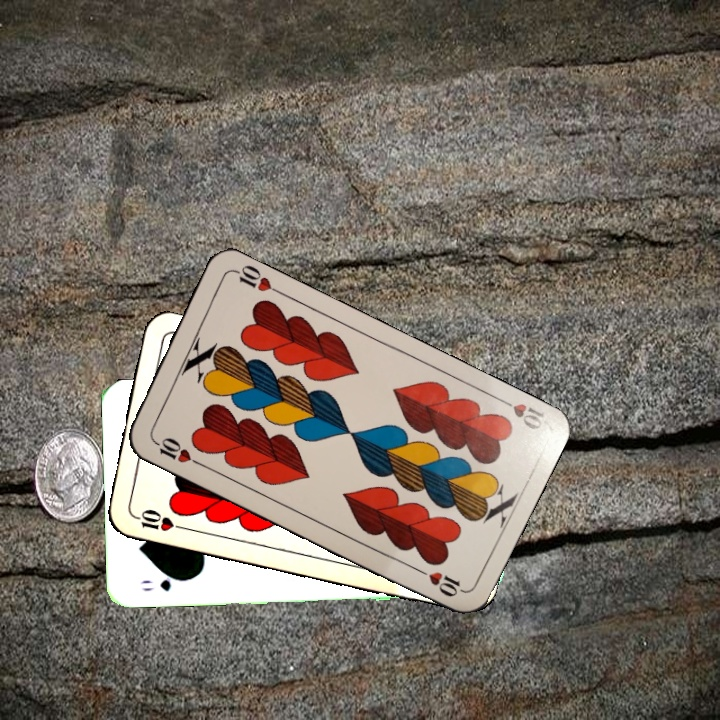GO: (136, 571, 190, 594)
H10: (492, 393, 547, 436), (148, 433, 204, 468), (129, 505, 187, 534)
